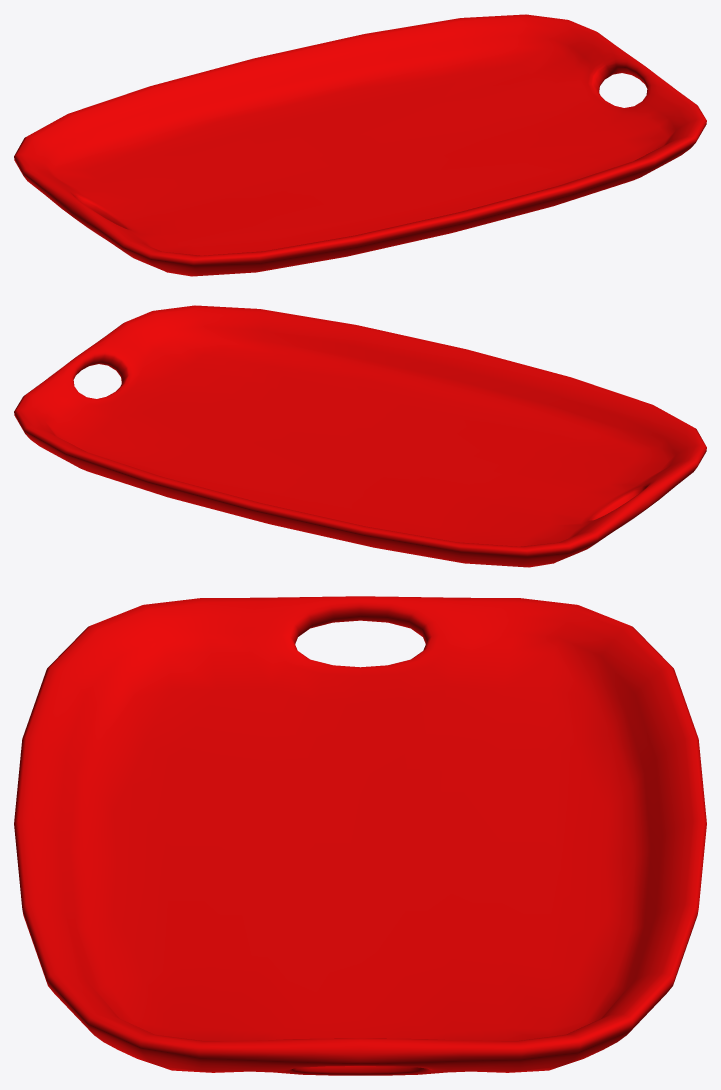
Rendered from tepsi.fbx.
3 renders of one model, top to bottom at view 1: azimuth 30°, elevation 25°; view 2: azimuth 150°, elevation 25°; view 3: azimuth 270°, elevation 25°, orthographic. The views are drawn at different scales.
Parts seen in each view (by area): view 1: tepsi; view 2: tepsi; view 3: tepsi.
Boxes of the visible parts, bbox=[...] form: tepsi: bbox=[14, 14, 706, 276]; tepsi: bbox=[14, 305, 706, 567]; tepsi: bbox=[14, 596, 706, 1075].
Size of the model in its own units: 2.96 by 0.2147 by 1.91.
